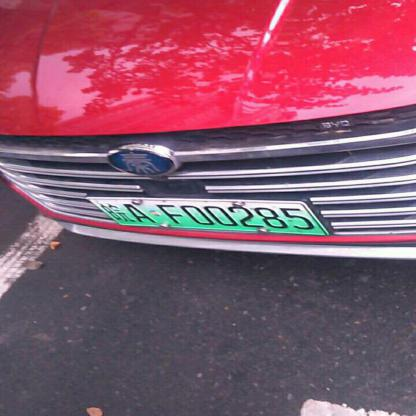lp: (89, 198, 328, 234)
